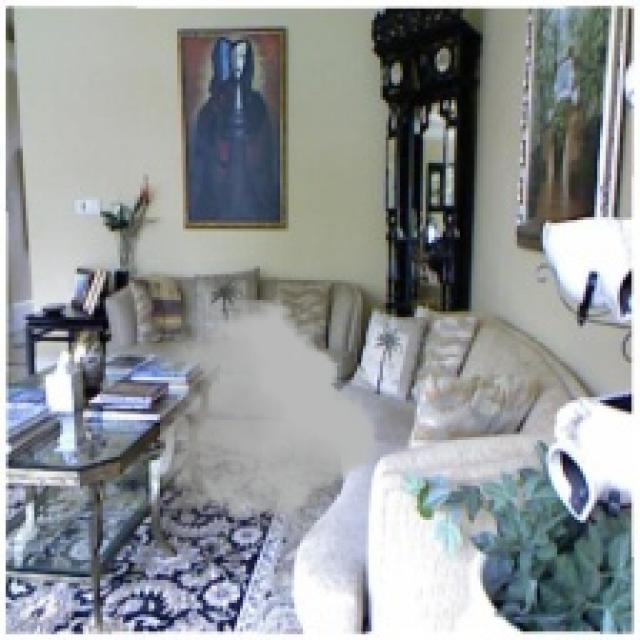smoke: (160, 294, 377, 549)
